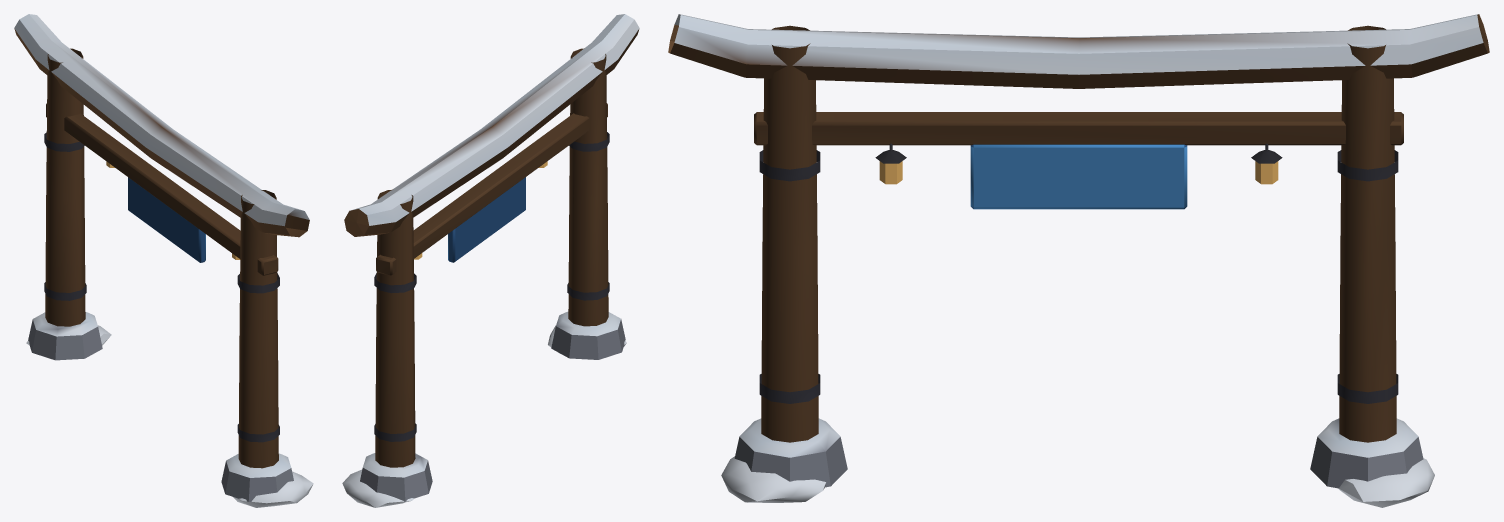
File: frost_arch.glb
3 views of the same model, side by side, from view 1: azimuth 30°, elevation 25°; view 2: azimuth 150°, elevation 25°; view 3: azimuth 270°, elevation 25° (orthographic). The views are drawn at different scales.
Parts seen in each view (by area): view 1: frost_arch; view 2: frost_arch; view 3: frost_arch, frost_arch_glow.
Boxes of the visible parts, x1,y1,x2,y2 form: frost_arch: (14, 14, 313, 507); frost_arch: (342, 14, 639, 507); frost_arch: (668, 14, 1489, 507); frost_arch_glow: (879, 161, 1278, 184).
Size of the model in its own units: 1.87 by 7.22 by 11.37.
